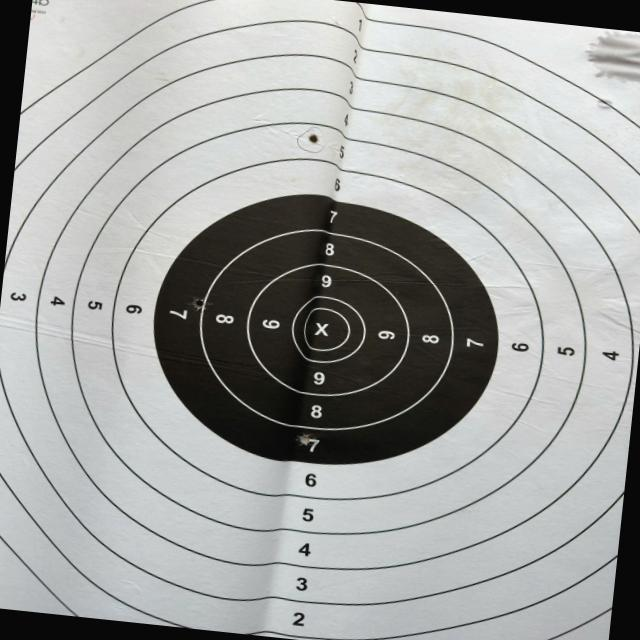bullet: (295, 435, 311, 446), (307, 134, 319, 142), (194, 299, 201, 307)
target: (0, 0, 640, 640)
